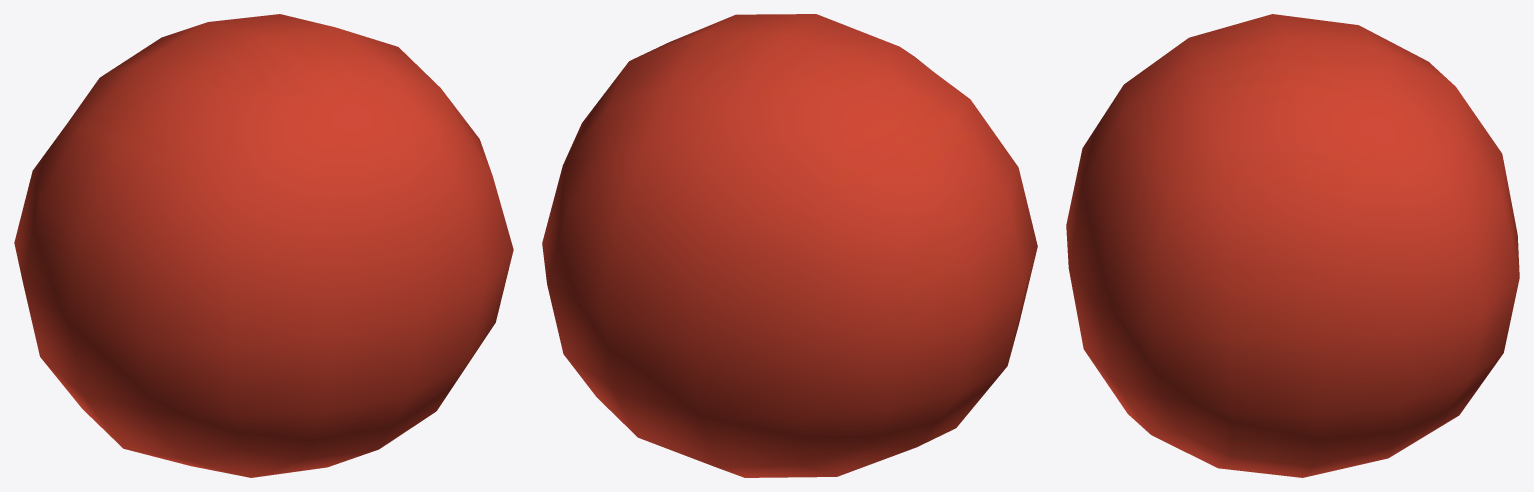
File: candy2.fbx
3 renders of one model, left to right at view 1: azimuth 30°, elevation 25°; view 2: azimuth 150°, elevation 25°; view 3: azimuth 270°, elevation 25°, orthographic.
Parts seen in each view (by area): view 1: pCube36; view 2: pCube36; view 3: pCube36.
Boxes of the visible parts, <box> form: pCube36: <box>14,14,513,477</box>; pCube36: <box>542,14,1037,477</box>; pCube36: <box>1066,14,1519,477</box>.
Bounding box in the file's own units: 1.05 × 0.9903 × 0.9839.
